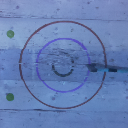Axe Tip: (85, 64, 96, 67)
